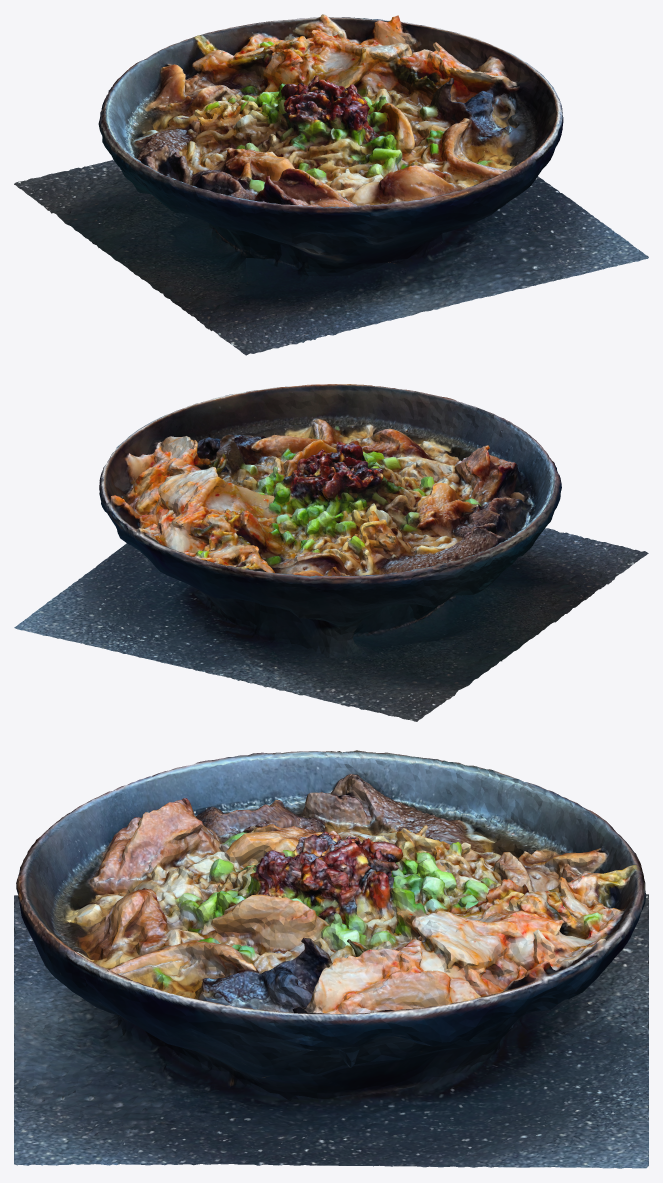
File: ramen_web.glb
3 views of the same model, one above another, from view 1: azimuth 30°, elevation 25°; view 2: azimuth 150°, elevation 25°; view 3: azimuth 270°, elevation 25° (orthographic). The views are drawn at different scales.
Size of the model in its own units: 0.2171 by 0.0728 by 0.217.
1 material, 1 textured.
